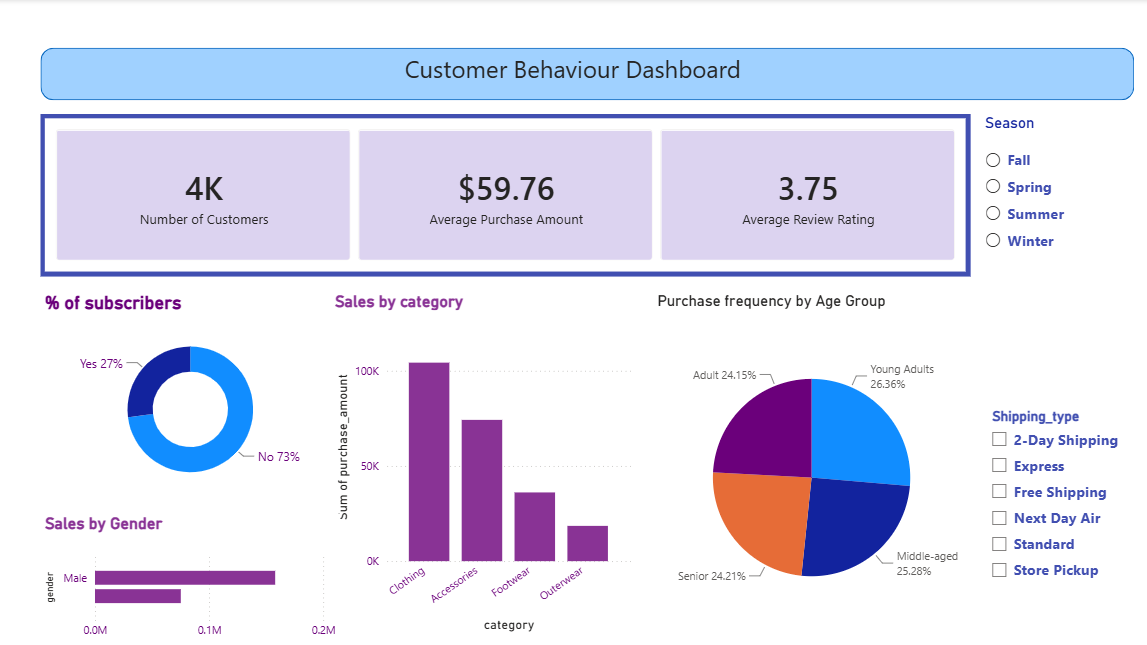

This screenshot's page, from the dashboard's own definition file:
{"tool":"powerbi","page":{"name":"Page 1","canvas":[1280,720],"ordinal":0},"visuals":[{"type":"cardVisual","fields":{"Data":["customer.Number of Customers","customer.Average Purchase Amount","customer.Average Review Rating"]},"box":[47.3,127.9,1034.2,180.7],"z":0},{"type":"shape","box":[47.3,54.2,1216.3,58.4],"z":1000},{"type":"textbox","box":[144.1,54.9,989.4,48],"z":2000},{"type":"donutChart","title":"% of subscribers","fields":{"Category":["customer.subscription_status"],"Y":["CountNonNull(customer.customer_id)"]},"box":[47.3,325.3,333.6,228],"z":3000},{"type":"clusteredColumnChart","title":"Sales by category","fields":{"Category":["customer.category"],"Y":["Sum(customer.purchase_amount)"]},"box":[369.8,325.3,339.2,383.7],"z":4000},{"type":"clusteredBarChart","title":"Sales by Gender","fields":{"Category":["customer.gender"],"Y":["Sum(customer.purchase_amount)"]},"box":[47.3,572.7,333.6,147.4],"z":5000},{"type":"listSlicer","title":"Season","fields":{"Values":["customer.season"]},"box":[1092.6,127.9,171,182.1],"z":6000},{"type":"slicer","fields":{"Values":["customer.shipping_type"]},"box":[1092.6,450.4,171,204.3],"z":7000},{"type":"pieChart","title":"Purchase frequency by Age Group","fields":{"Y":["CountNonNull(customer.frequency_of_purchases)"],"Category":["customer.age_group"]},"box":[728.4,325.3,353.1,383.7],"z":7001}]}

Visuals, with their boxes in screenshot pixels (x1, y1, x2, y2), scaled from the page's 1280x720 canvas onto the 1147x645 screenshot:
cardVisual - customer.Number of Customers x customer.Average Purchase Amount: Rect(42, 115, 969, 276)
shape: Rect(42, 49, 1132, 101)
textbox: Rect(129, 49, 1016, 92)
"% of subscribers" donutChart: Rect(42, 291, 341, 496)
"Sales by category" clusteredColumnChart: Rect(331, 291, 635, 635)
"Sales by Gender" clusteredBarChart: Rect(42, 513, 341, 644)
"Season" listSlicer: Rect(979, 115, 1132, 278)
slicer - customer.shipping_type: Rect(979, 403, 1132, 587)
"Purchase frequency by Age Group" pieChart: Rect(653, 291, 969, 635)
